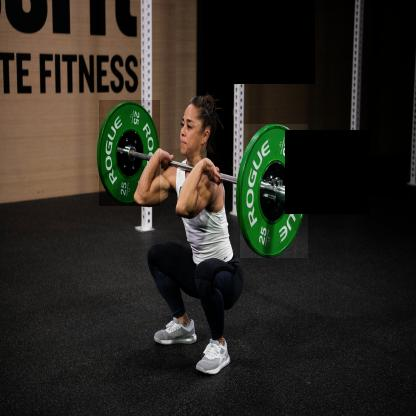barbell: (241, 125, 309, 259), (100, 101, 161, 207)
